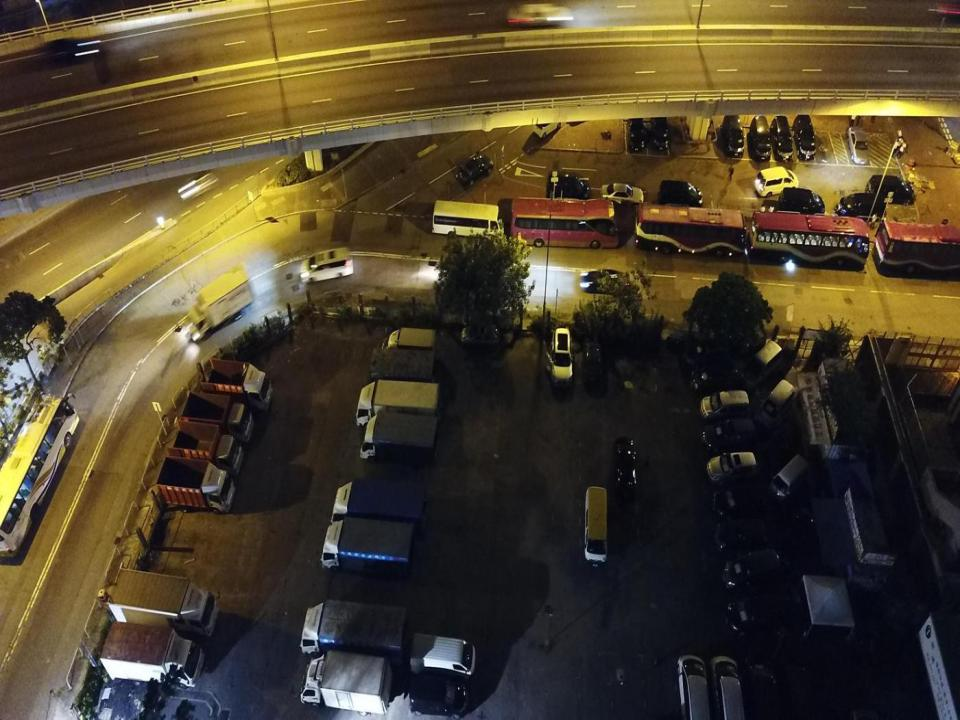bus: (0, 394, 81, 554), (747, 211, 870, 271), (634, 204, 746, 257), (510, 197, 619, 250), (874, 219, 960, 276), (432, 200, 505, 240)
car: (726, 593, 794, 635), (710, 656, 747, 719), (724, 550, 780, 589), (716, 515, 780, 549), (678, 655, 710, 719), (745, 661, 780, 719), (714, 479, 770, 515), (743, 340, 783, 386), (544, 327, 574, 388), (691, 356, 736, 396), (700, 418, 756, 450), (835, 192, 888, 223), (506, 3, 573, 26), (700, 390, 749, 421), (706, 454, 756, 484), (613, 437, 636, 502), (754, 166, 799, 197), (42, 38, 103, 60), (781, 186, 826, 214), (580, 270, 629, 295), (180, 166, 217, 199), (546, 173, 590, 200), (458, 152, 494, 184), (602, 182, 644, 207), (582, 342, 604, 388), (461, 322, 500, 346), (847, 126, 869, 165), (533, 108, 562, 137)
truck: (107, 567, 219, 637), (301, 599, 407, 667), (100, 620, 204, 688), (300, 649, 393, 716), (321, 519, 415, 579), (331, 481, 427, 538), (156, 456, 236, 514), (357, 378, 442, 430), (188, 267, 252, 336), (360, 411, 440, 466), (169, 420, 243, 474), (180, 390, 254, 443), (201, 358, 273, 411), (370, 347, 436, 388), (381, 326, 436, 361)
van: (409, 631, 476, 680), (409, 673, 468, 719), (767, 454, 809, 506), (754, 379, 794, 429), (300, 247, 354, 284), (584, 487, 608, 567), (864, 174, 914, 206), (658, 179, 703, 207), (769, 115, 793, 163), (793, 113, 816, 160), (750, 114, 772, 162), (722, 112, 745, 156), (650, 108, 669, 150), (626, 112, 645, 151)
